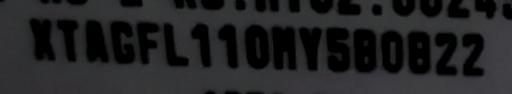letter: (28, 16, 58, 62), (82, 18, 110, 65), (270, 25, 298, 71), (298, 24, 324, 71), (162, 22, 190, 65), (56, 17, 82, 63), (244, 22, 270, 68), (352, 26, 378, 72), (406, 28, 432, 74), (434, 29, 460, 75), (460, 31, 486, 77), (109, 19, 135, 64), (325, 25, 351, 70), (190, 22, 214, 68), (136, 22, 160, 65), (380, 29, 404, 72), (218, 23, 238, 69)
